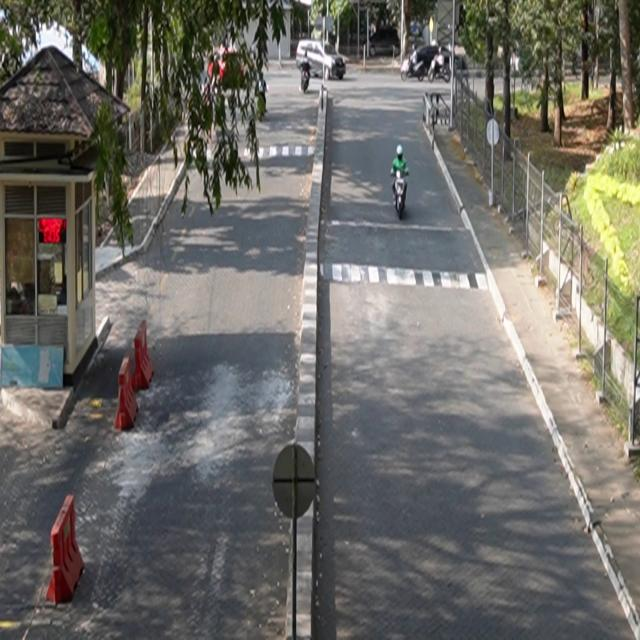car: (297, 40, 347, 81)
